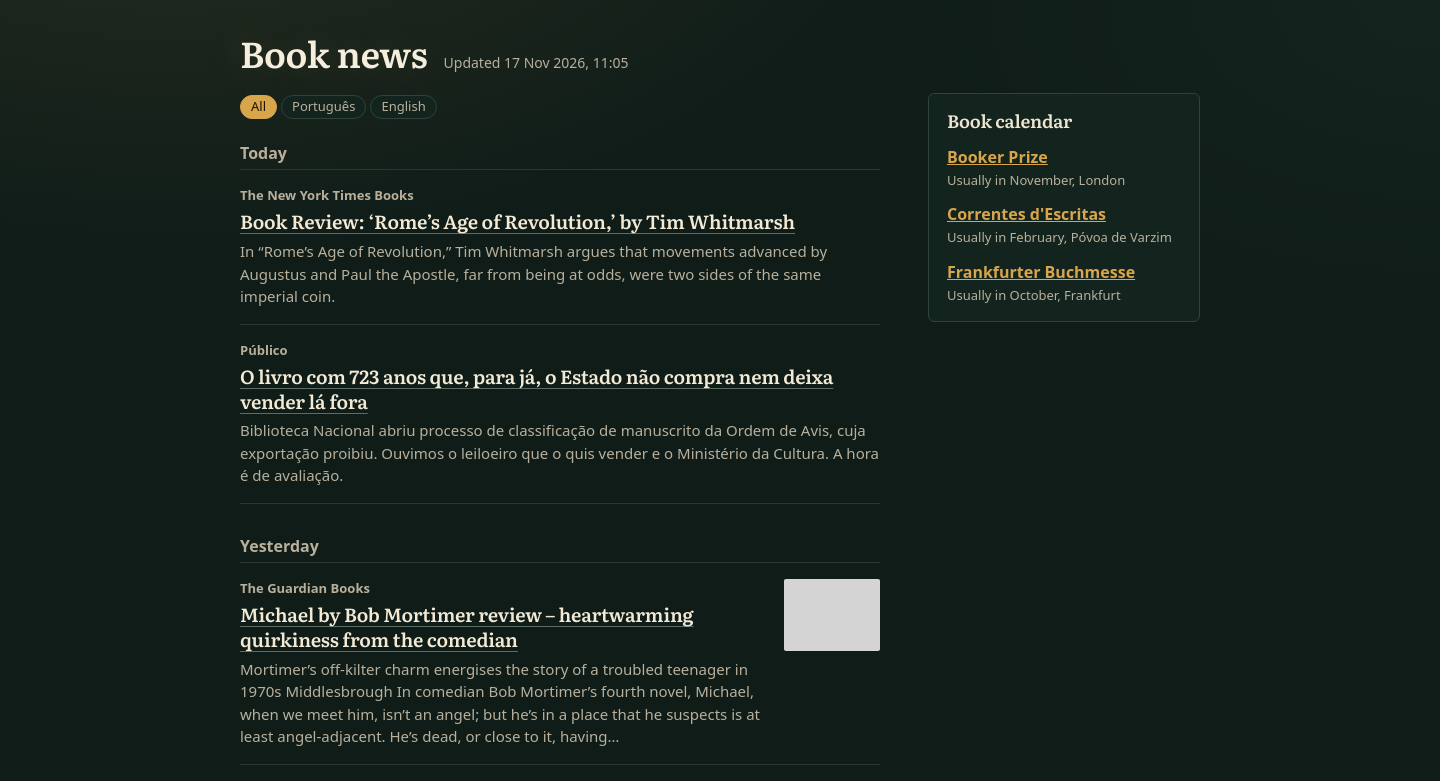
Test case: NewsPage › filtersByLanguageAndRemembersIt
Later steps or results of the test are not shown.
Check: the heading "Today" is shown, box left=240, top=143, right=880, bottom=170
Click the button "Português". click: (324, 107)
box: left=281, top=95, right=366, bottom=119
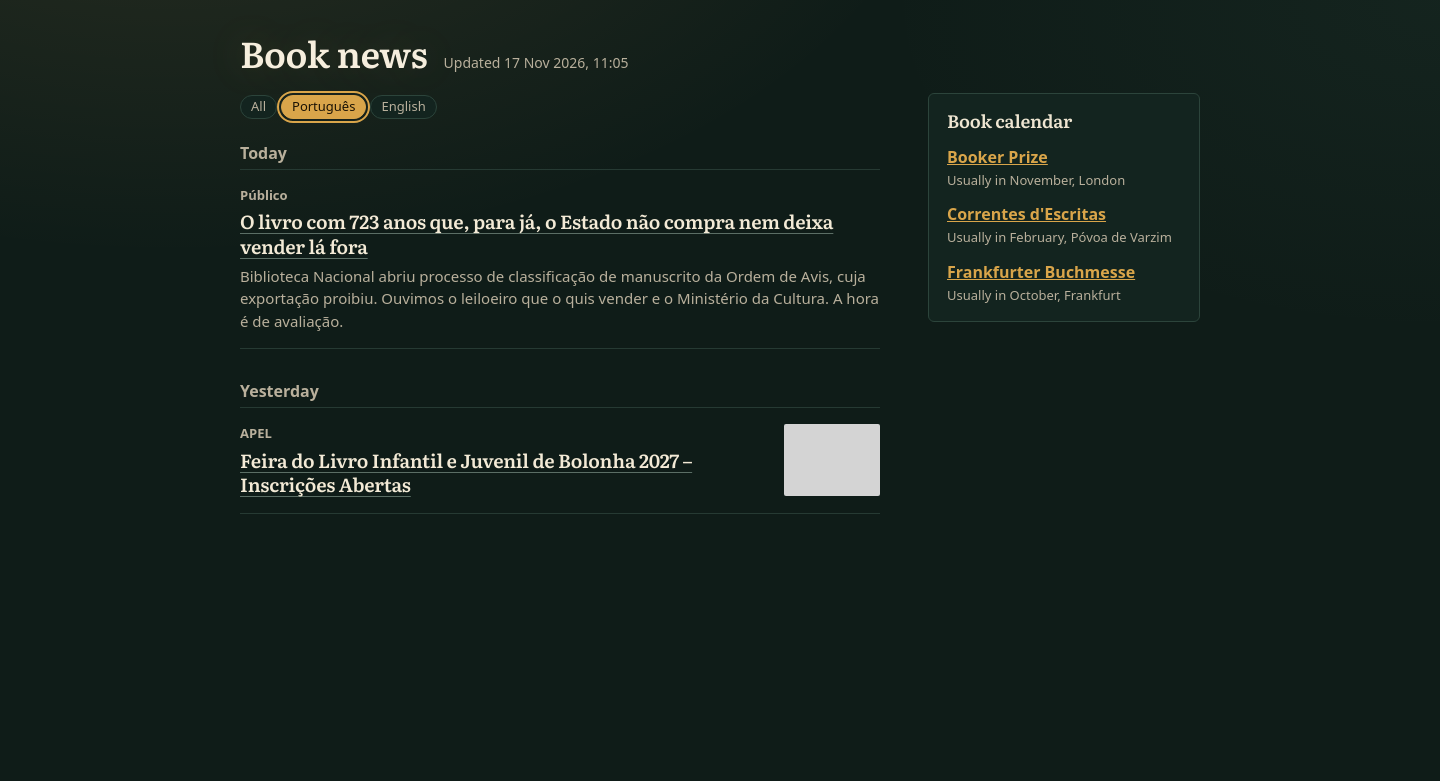
Check: the link "O livro com 723 anos que, para já, o Estado não compra nem deixa vender lá fora" is shown, box left=240, top=207, right=833, bottom=260
Check: the link "Book Review: ‘Rome’s Age of Revolution,’ by Tim Whitmarsh" is gone
Check: the link "Michael by Bob Mortimer review – heartwarming quirkiness from the comedian" is gone
